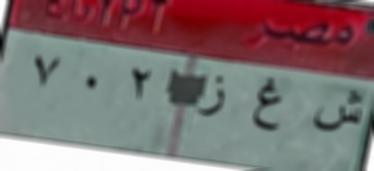0: (80, 70, 104, 96)
2: (130, 62, 154, 106)
7: (30, 50, 62, 94)
ghayn: (252, 73, 285, 142)
sheen: (310, 84, 365, 136)
zay: (194, 75, 230, 119)
